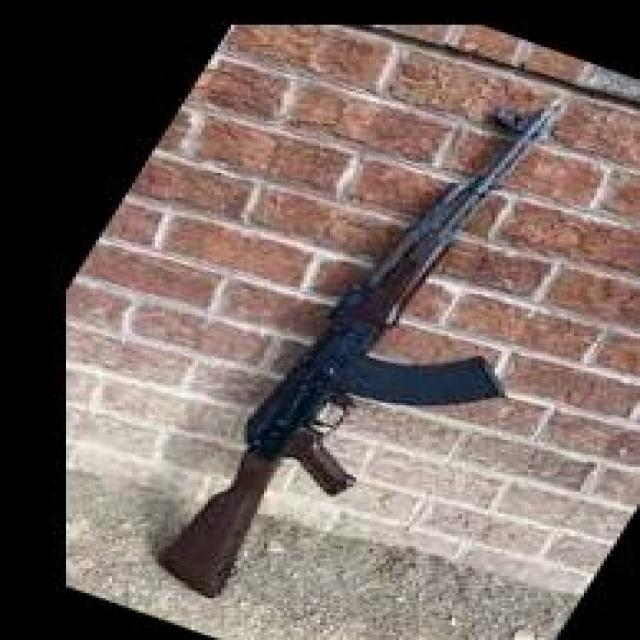weapon: (154, 100, 566, 599)
